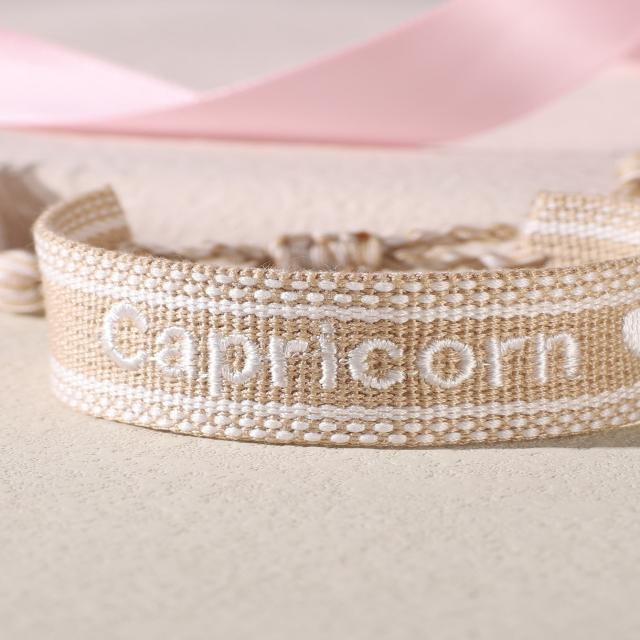bracelet: (0, 112, 640, 488)
